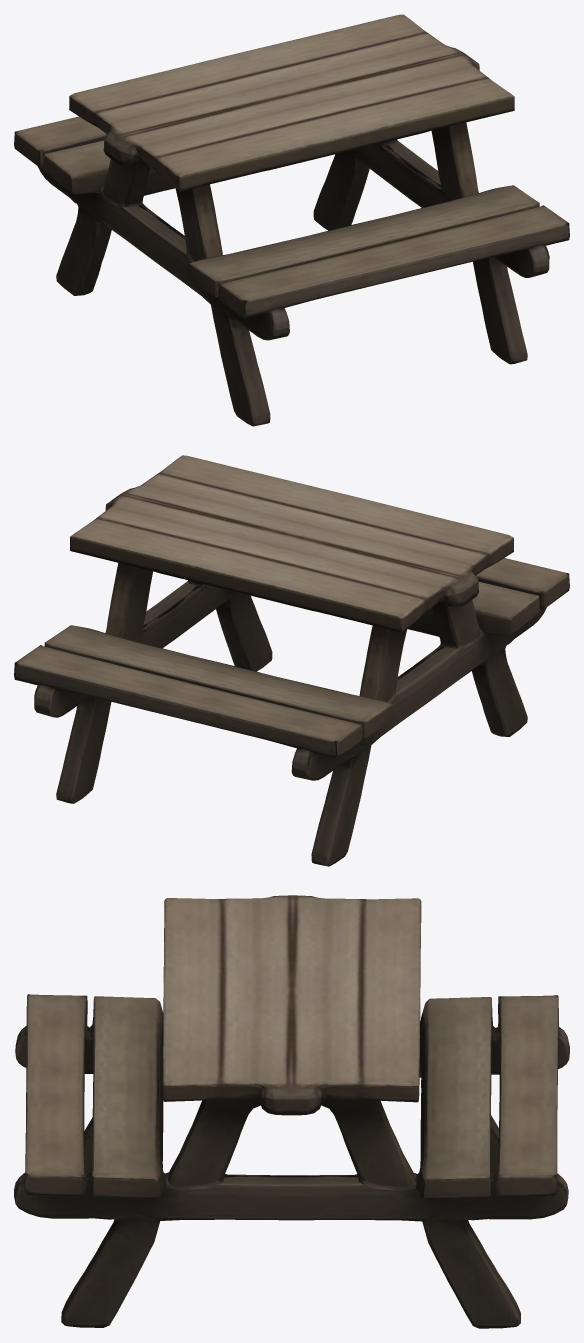
Rendered from picnic_table.glb.
3 renders of one model, top to bottom at view 1: azimuth 30°, elevation 25°; view 2: azimuth 150°, elevation 25°; view 3: azimuth 270°, elevation 25°, orthographic. The views are drawn at different scales.
Visible parts, largest first — view 1: geometry_0.039; view 2: geometry_0.039; view 3: geometry_0.039.
Boxes of the visible parts, <box> form: geometry_0.039: <box>14,14,569,426</box>; geometry_0.039: <box>14,455,569,866</box>; geometry_0.039: <box>14,895,569,1328</box>.
Size of the model in its own units: 0.4594 by 0.2793 by 0.5374.
1 material, 1 textured.
